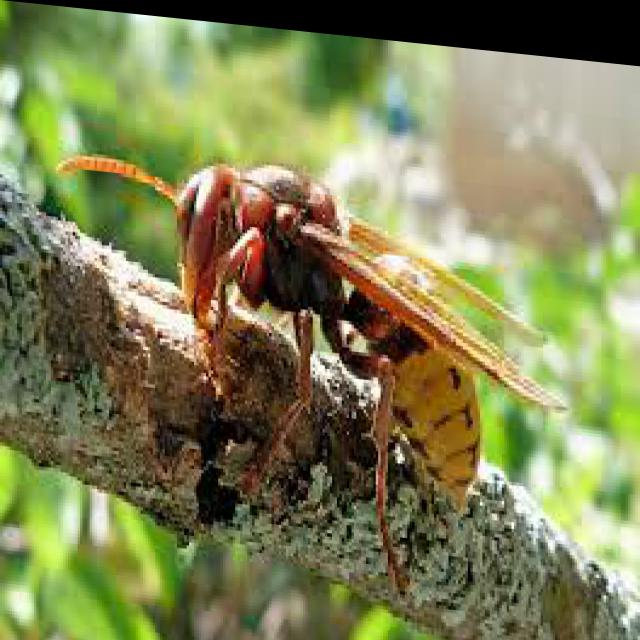Vespa Orientalis: (48, 101, 576, 614)
